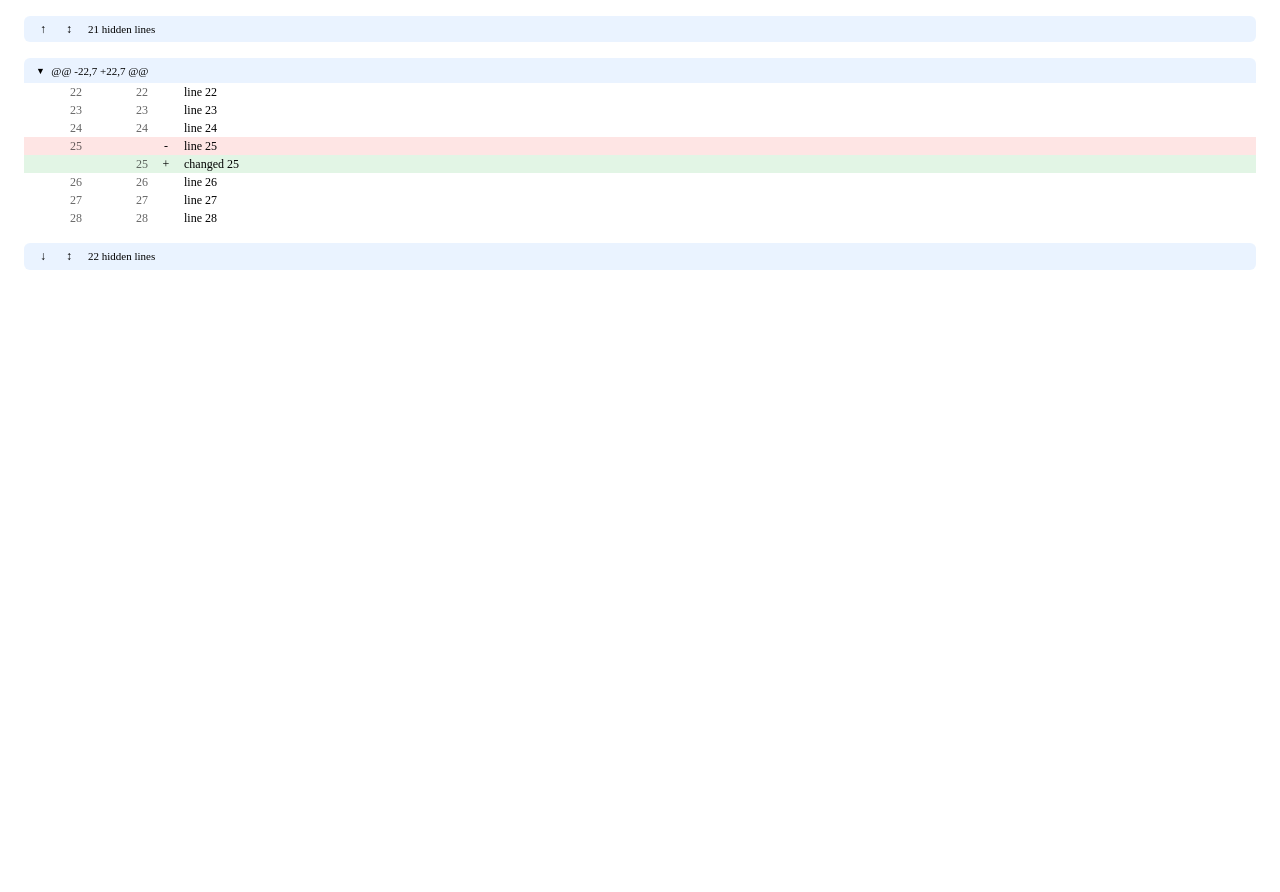
Test: expanding all on every gap shows the whole file
expect the text "21 hidden lines" is shown: met, box [88, 21, 155, 37]
What coordinates should you click on to do the following:
click the button named "Expand all"
I would click on:
 (69, 29)
Its box is [58, 19, 80, 39].
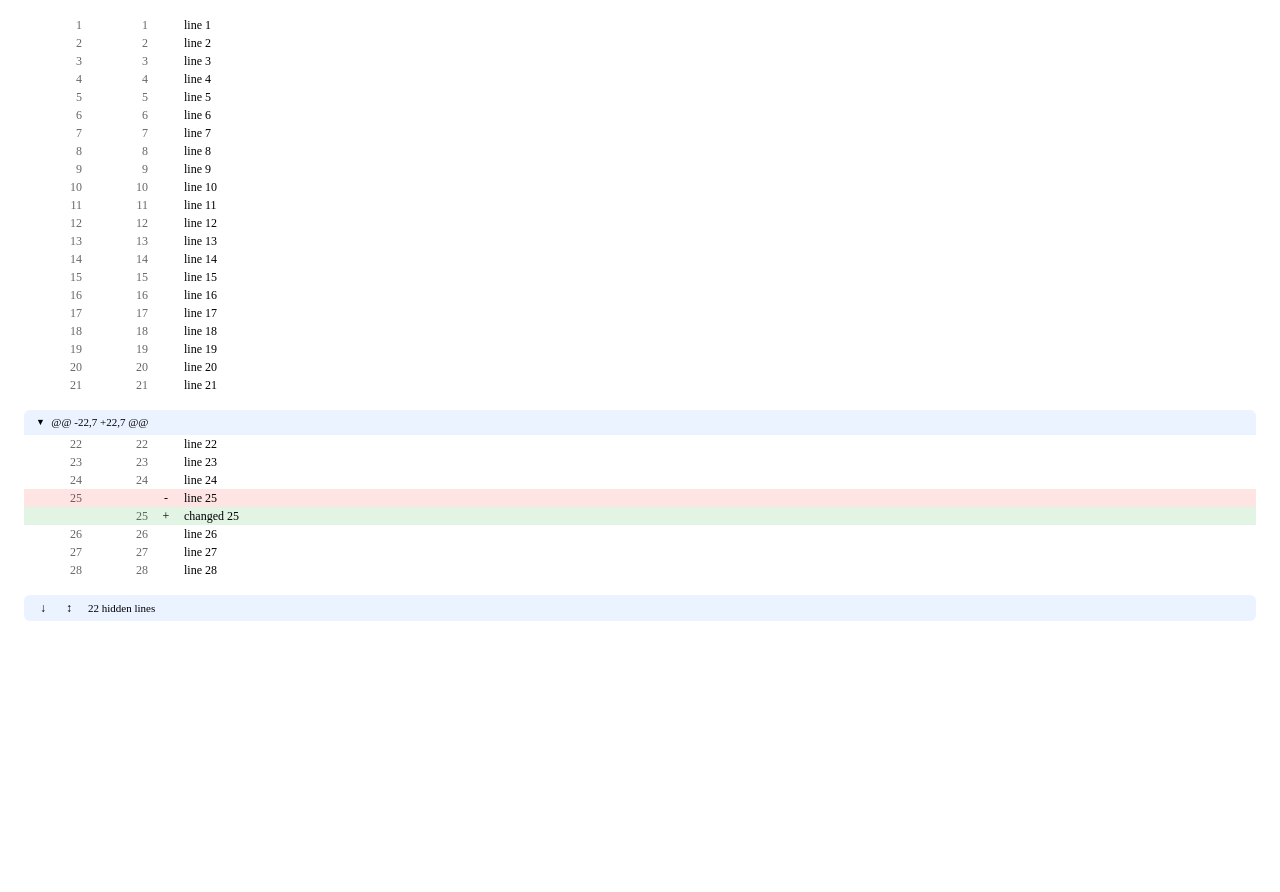
What coordinates should you click on to do the following:
click the button named "Expand all"
I would click on:
 (69, 608)
Its box is [58, 598, 80, 618].
(page scrolled)
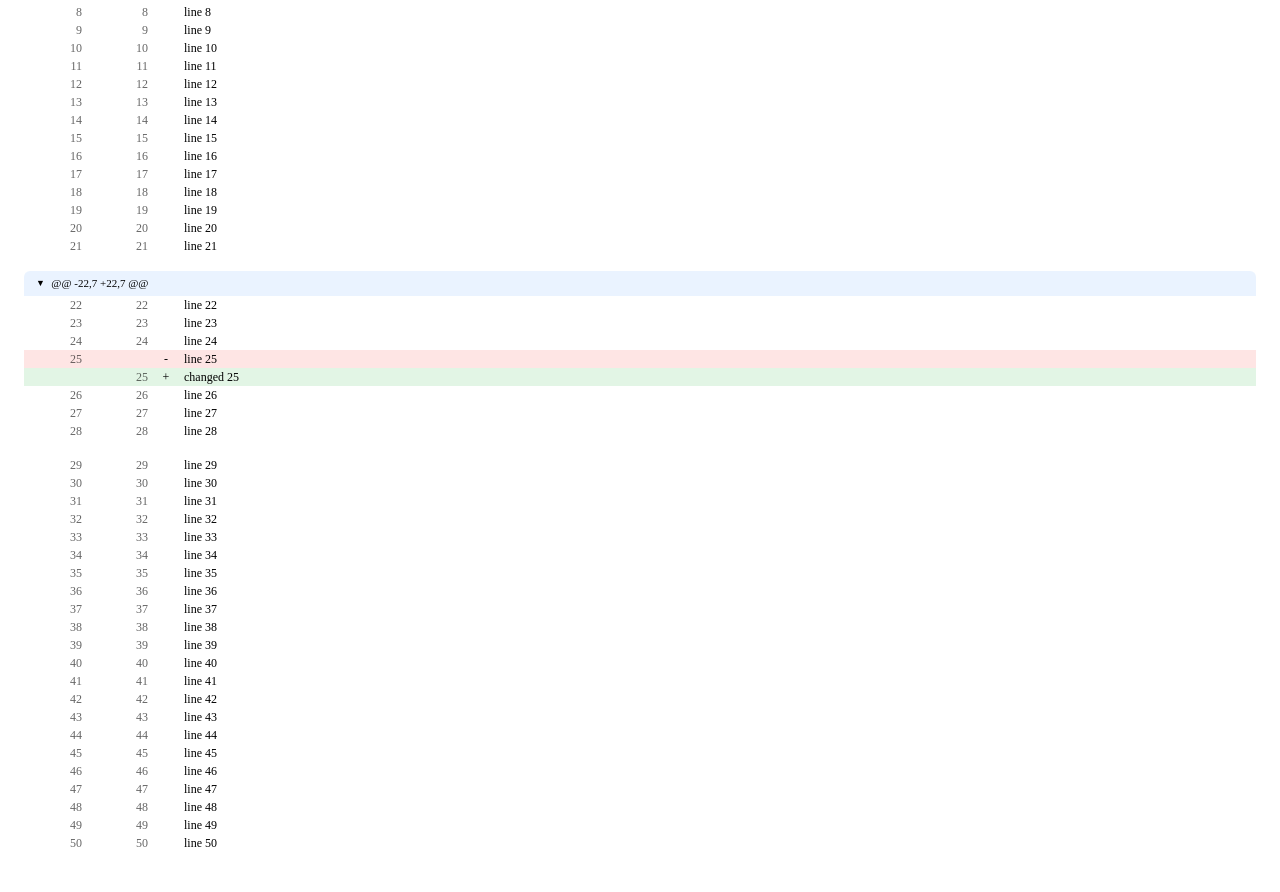
expect the text "hidden line" is gone: met
